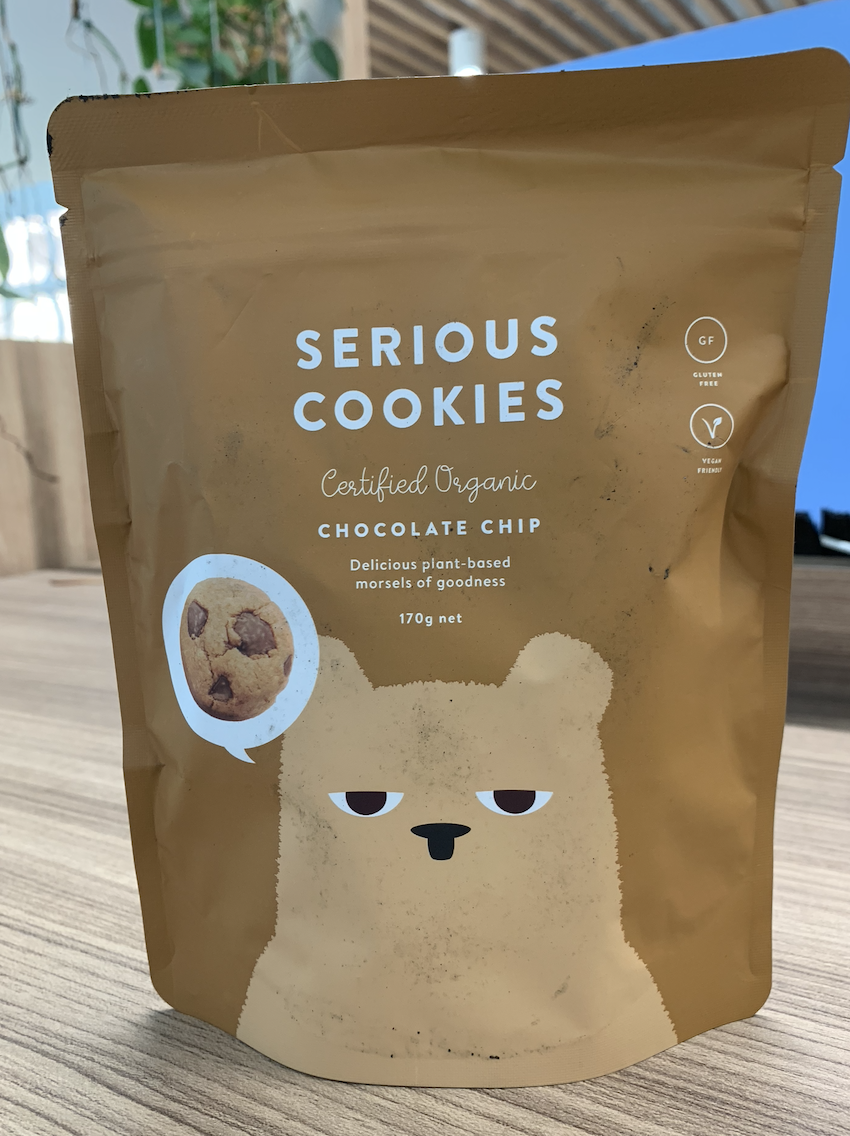cookies_100g-199g: (148, 207, 782, 1003)
